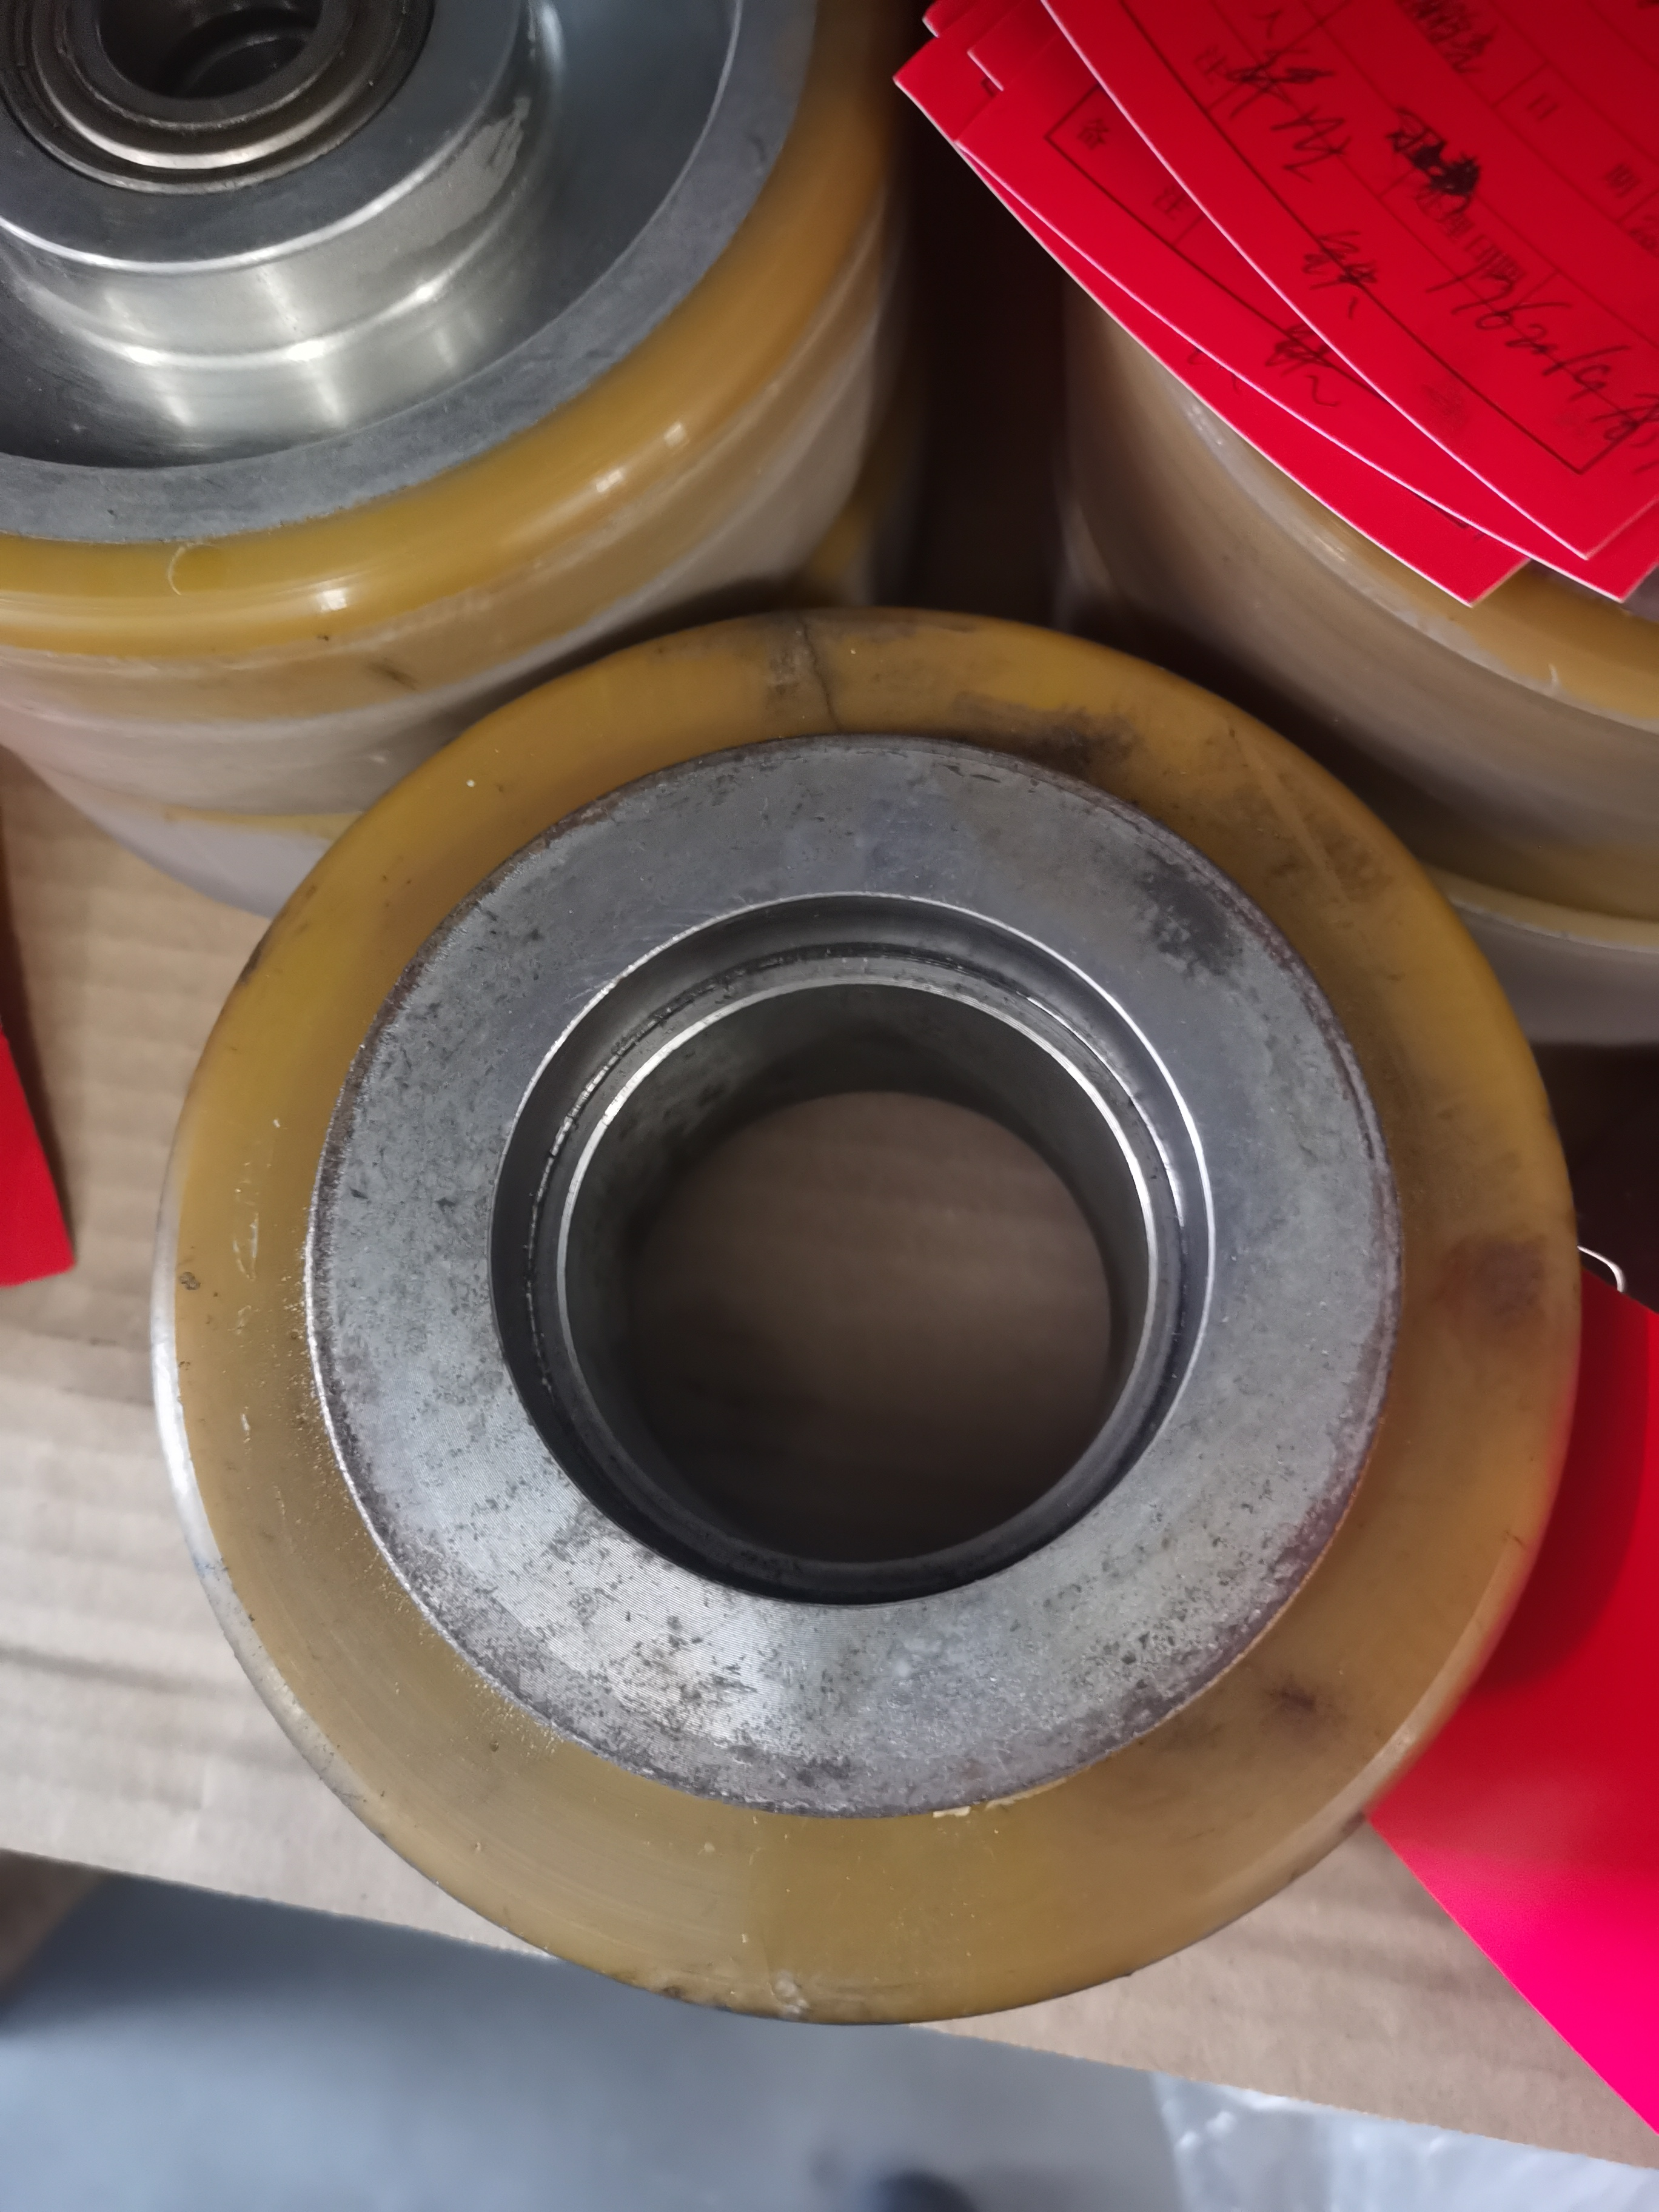bad_wheel: (467, 846, 1241, 1613), (735, 589, 932, 801)
